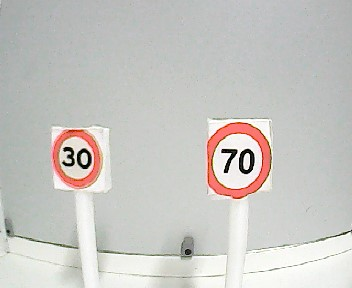30-bord: (53, 129, 103, 190)
70-bord: (207, 122, 273, 196)
